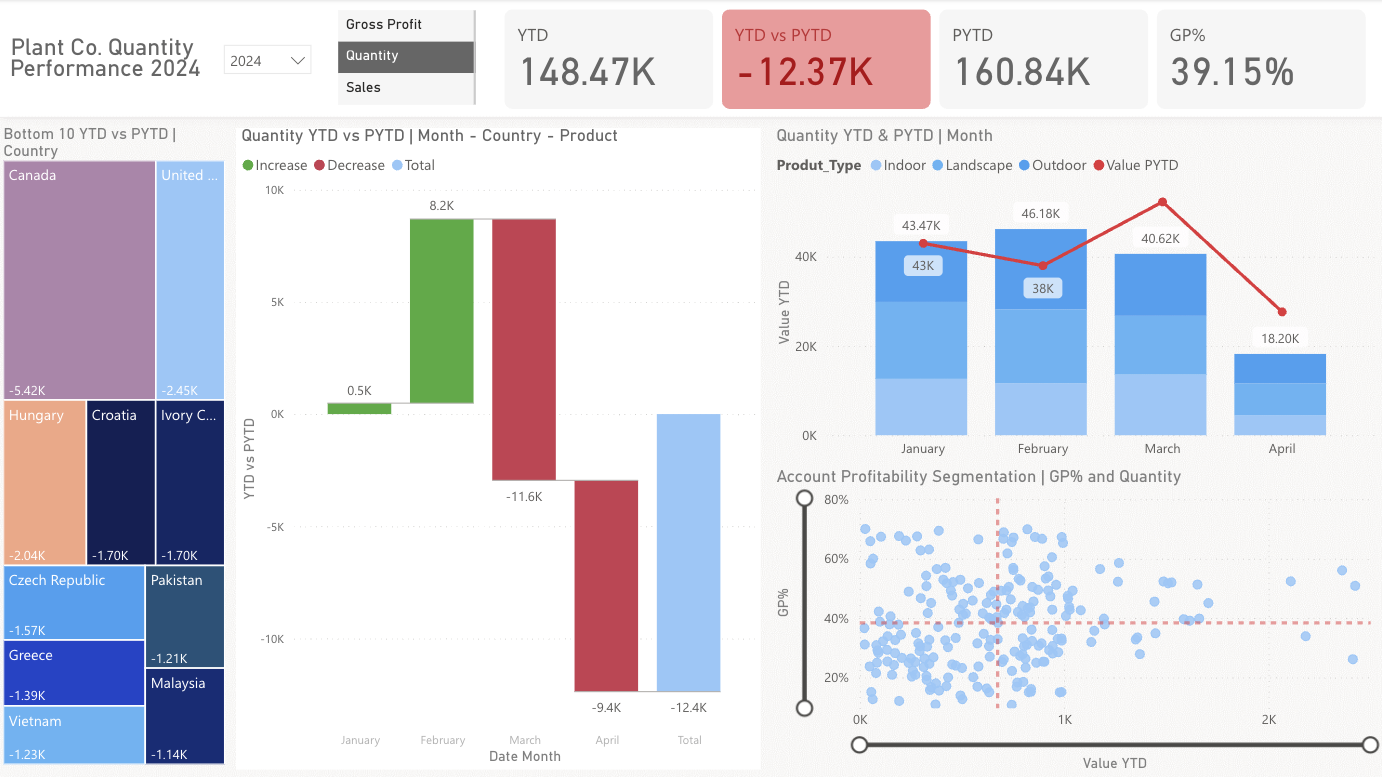

What the dashboard file says about the page in this screenshot:
{"tool":"powerbi","page":{"name":"Performance Report","canvas":[1280,720],"ordinal":0},"visuals":[{"type":"cardVisual","fields":{"Data":["_Measures.S_YTD","_Measures.YTD vs PYTD","_Measures.S_PYTD","_Measures.GP%"]},"box":[463,4.2,806.2,102.1],"z":0},{"type":"advancedSlicerVisual","fields":{"Values":["Slc_Values.Values"]},"box":[309.8,5.9,137.3,98],"z":1000},{"type":"slicer","fields":{"Values":["Dim_Date.Date.Variation.Date Hierarchy.Year"]},"box":[198.4,32.7,101.3,50.2],"z":2000},{"type":"treemap","title":"Bottom 10 YTD vs PYTD | Country","fields":{"Values":["_Measures.YTD vs PYTD"],"Group":["Dim_Account.country"]},"box":[0,118.7,214.6,594.4],"z":3000},{"type":"waterfallChart","fields":{"Y":["_Measures.YTD vs PYTD"],"Category":["Dim_Date.Date.Variation.Date Hierarchy.Month","Dim_Account.country","Dim_Product.Produt_Type","Dim_Product.Product_Name"]},"box":[220.3,119.6,485.2,593.5],"z":4000},{"type":"lineStackedColumnComboChart","fields":{"Y":["_Measures.S_YTD"],"Y2":["_Measures.S_PYTD"],"Category":["Dim_Date.Date.Variation.Date Hierarchy.Quarter","Dim_Date.Date.Variation.Date Hierarchy.Month"],"Series":["Dim_Product.Produt_Type"]},"box":[714.1,119.6,565.9,314.3],"z":5000},{"type":"scatterChart","fields":{"Y":["_Measures.GP%"],"X":["_Measures.S_YTD"],"Category":["Dim_Account.Account"]},"box":[714.1,433.9,565.9,285.8],"z":6000},{"type":"card","fields":{"Values":["_Measures._Report title"]},"box":[0,20.9,198.5,68.4],"z":7000}]}

Visuals, with their boxes in screenshot pixels (x1, y1, x2, y2), scaled from the page's 1280x720 canvas onto the 1382x777 screenshot:
cardVisual - _Measures.S_YTD x _Measures.YTD vs PYTD: <region>500, 5, 1370, 115</region>
advancedSlicerVisual - Slc_Values.Values: <region>334, 6, 483, 112</region>
slicer - Dim_Date.Date.Variation.Date Hierarchy.Year: <region>214, 35, 324, 89</region>
"Bottom 10 YTD vs PYTD | Country" treemap: <region>0, 128, 232, 770</region>
waterfallChart - _Measures.YTD vs PYTD x Dim_Date.Date.Variation.Date Hierarchy.Month: <region>238, 129, 762, 770</region>
lineStackedColumnComboChart - _Measures.S_YTD x _Measures.S_PYTD: <region>771, 129, 1381, 468</region>
scatterChart - _Measures.GP% x _Measures.S_YTD: <region>771, 468, 1381, 776</region>
card - _Measures._Report title: <region>0, 23, 214, 96</region>
